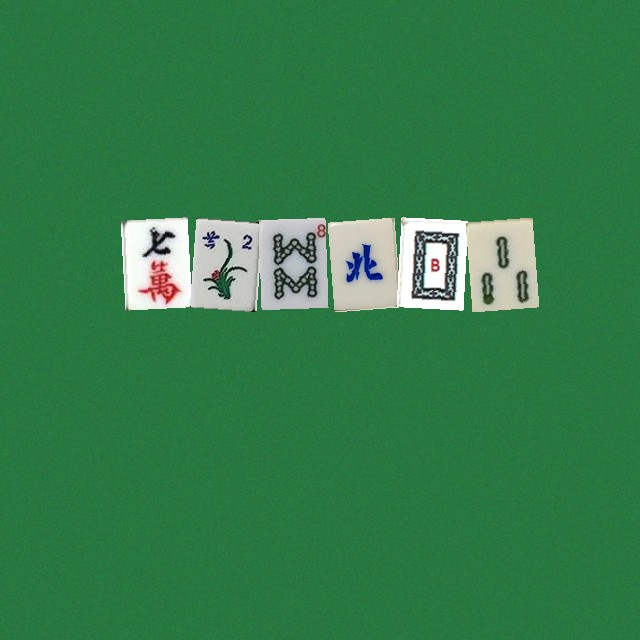tile: (120, 217, 187, 307), (189, 217, 256, 307), (258, 217, 325, 307), (327, 217, 394, 307), (396, 217, 463, 307), (465, 217, 532, 307)
